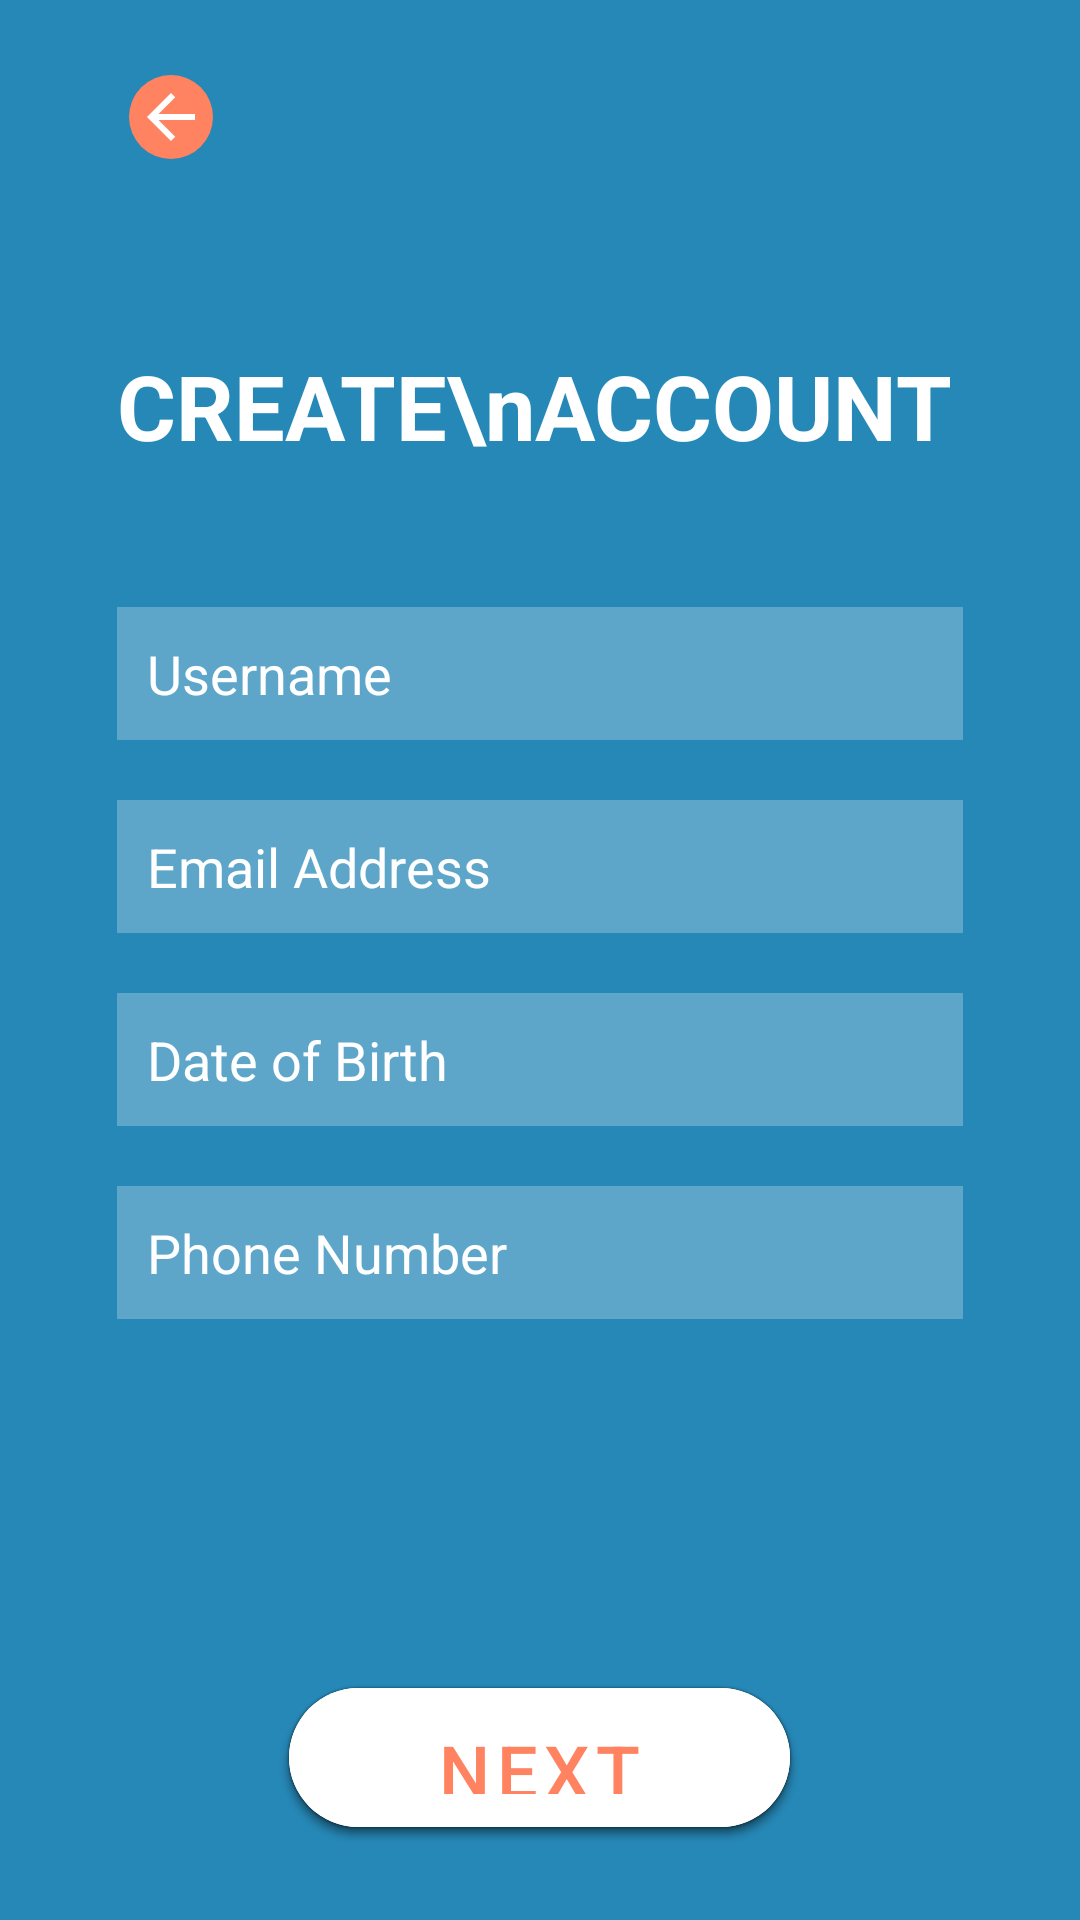

Icon bounding boxes for this 1080px×1920px phone screenshot, format (x1, y1, x2, y2):
back: (129, 75, 213, 159)
